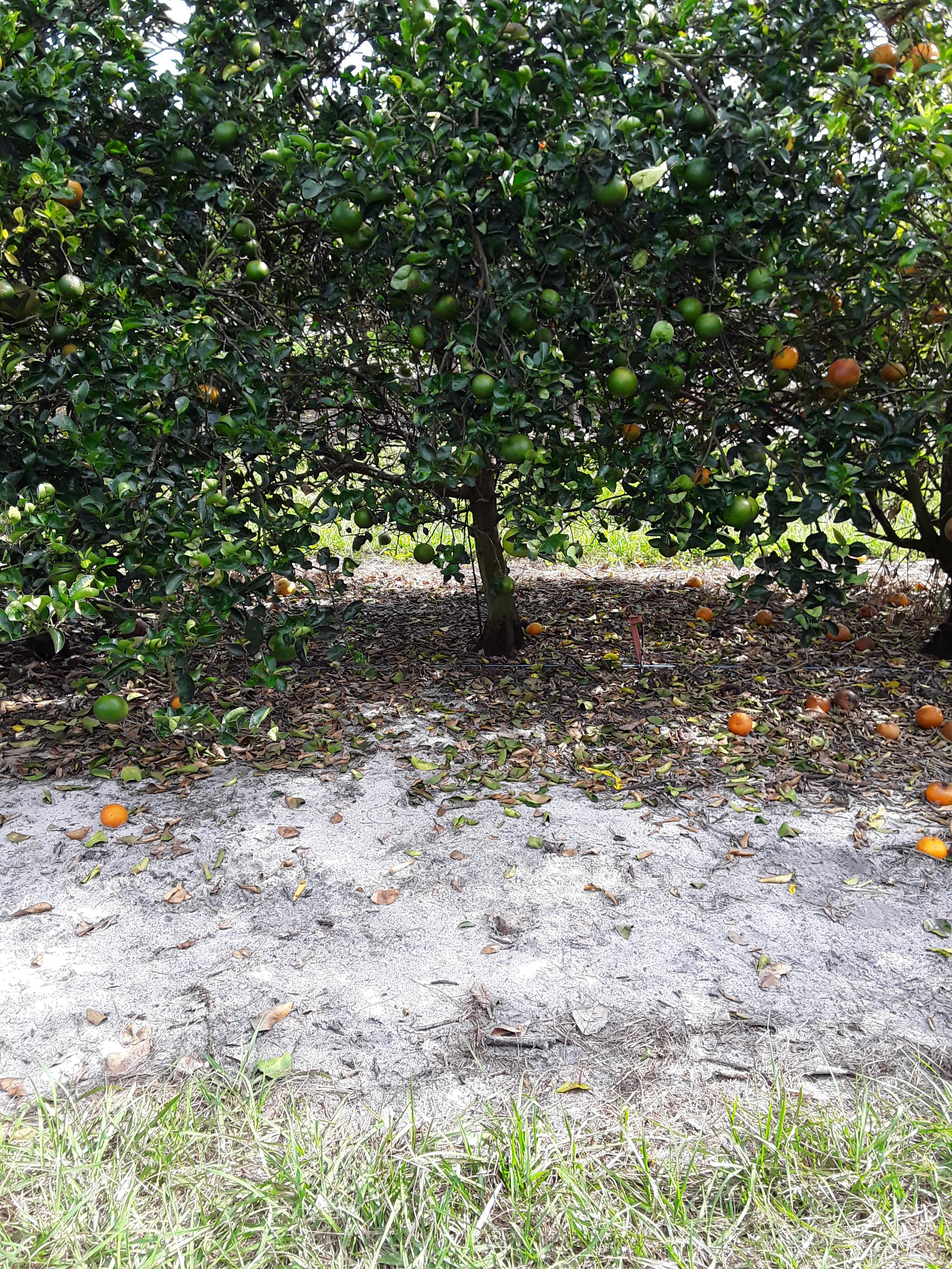fruit_on_ground: (590, 170, 630, 210), (1, 279, 41, 317), (905, 38, 944, 76), (92, 689, 132, 726), (721, 491, 760, 528), (337, 219, 377, 253), (682, 155, 717, 191), (604, 364, 639, 400), (503, 300, 539, 334), (328, 197, 364, 231), (499, 431, 536, 464), (825, 357, 862, 389), (654, 361, 689, 393), (228, 30, 264, 61), (744, 262, 778, 294), (682, 102, 718, 132), (429, 290, 462, 322), (267, 631, 299, 663), (53, 177, 86, 208), (47, 557, 82, 586), (210, 117, 242, 148), (532, 289, 563, 320), (469, 369, 499, 401), (869, 41, 902, 70), (694, 311, 725, 341), (56, 271, 85, 302), (675, 295, 706, 324), (228, 215, 259, 243), (241, 256, 272, 284), (879, 5, 912, 31), (868, 59, 899, 86), (771, 343, 800, 371), (920, 300, 950, 327), (819, 290, 847, 317), (194, 380, 222, 407), (688, 462, 716, 488), (405, 321, 431, 349), (168, 143, 197, 168), (879, 360, 908, 384), (691, 232, 718, 257), (785, 303, 813, 326), (896, 254, 922, 278), (739, 442, 766, 465), (0, 276, 18, 310), (412, 541, 437, 565), (45, 320, 71, 343), (619, 420, 644, 443), (491, 574, 517, 596), (350, 505, 374, 528), (214, 414, 239, 436), (59, 339, 83, 361), (238, 239, 263, 259), (508, 539, 532, 559), (659, 539, 680, 559), (396, 360, 416, 379), (625, 516, 644, 534), (376, 530, 394, 547)
fruit_on_tree: (915, 834, 949, 860), (99, 801, 129, 829), (924, 779, 952, 808), (915, 703, 945, 730), (833, 687, 861, 713), (726, 710, 754, 736), (803, 691, 831, 713), (826, 621, 852, 643), (272, 575, 296, 598), (875, 720, 901, 741), (852, 634, 877, 653), (753, 607, 774, 627), (855, 602, 876, 620), (524, 619, 544, 637), (695, 604, 715, 622), (939, 719, 952, 743), (685, 572, 703, 589), (889, 592, 909, 607), (911, 579, 928, 592), (854, 551, 870, 563), (635, 555, 648, 567)
